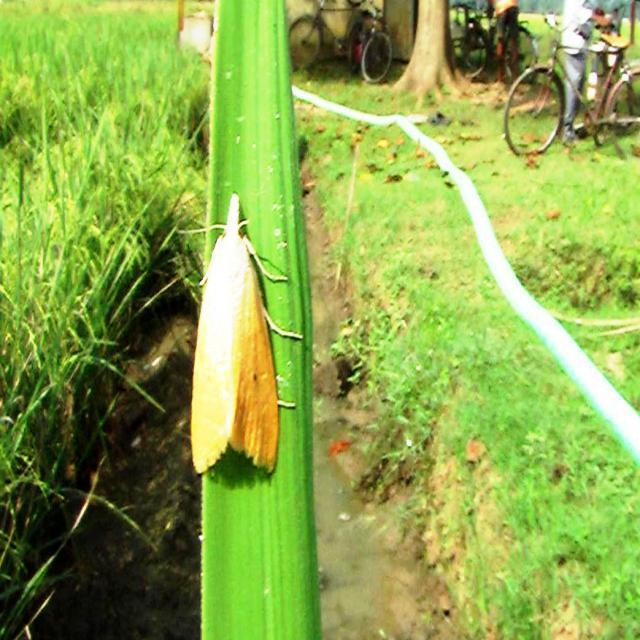stem-borer: (190, 188, 306, 482)
